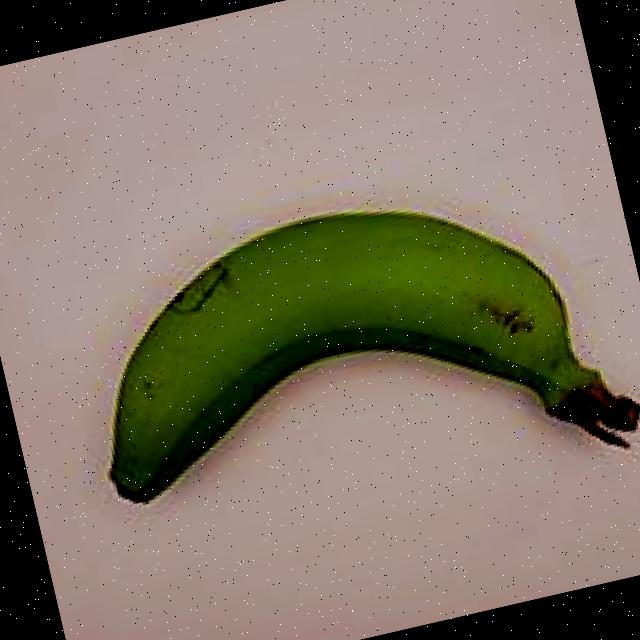Raw: (42, 132, 640, 605)
